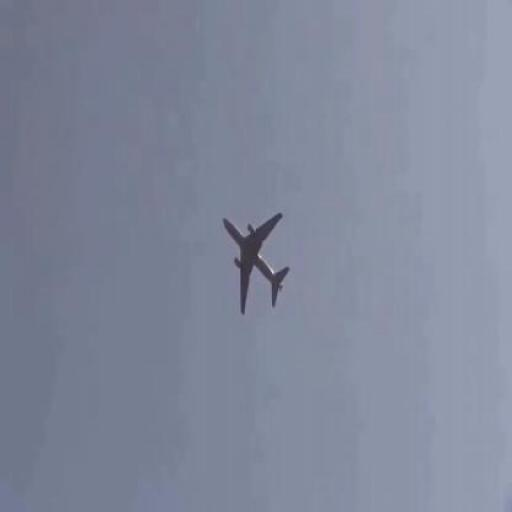aircraft: (222, 212, 289, 314)
